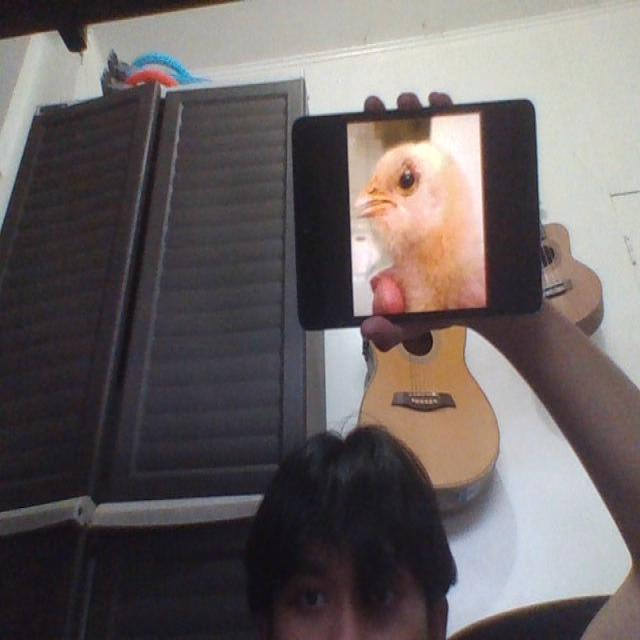Sick: (355, 140, 487, 309)
